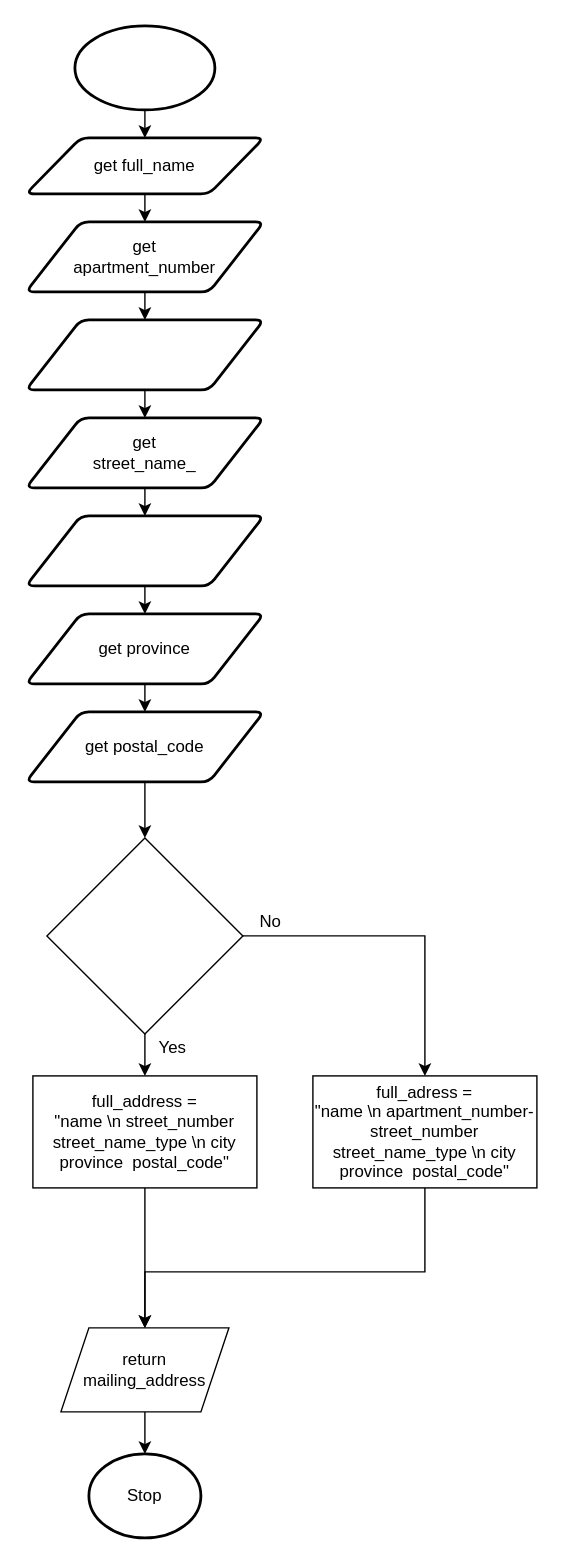
The diagram is 561 pixels wide and 1562 high, and some of its shapes have lost their labels. Each missing label, with the centre of its shape:
"get city" belongs at point (144, 550).
"get street_number" belongs at point (144, 354).
"if apartment_number = None" belongs at point (144, 935).
"mail_adress" belongs at point (144, 67).
